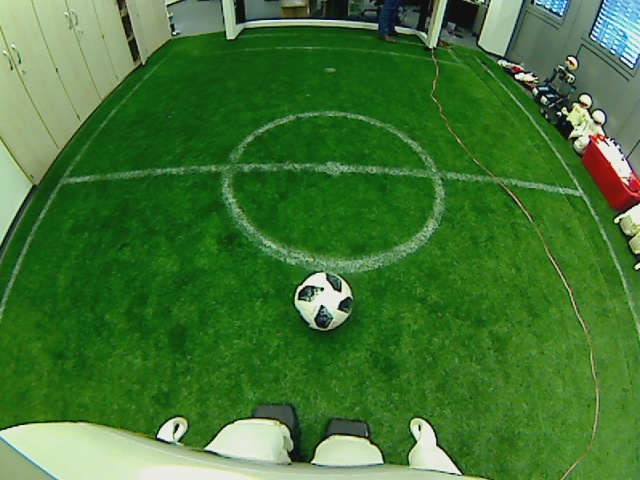ball: (290, 271, 356, 332)
